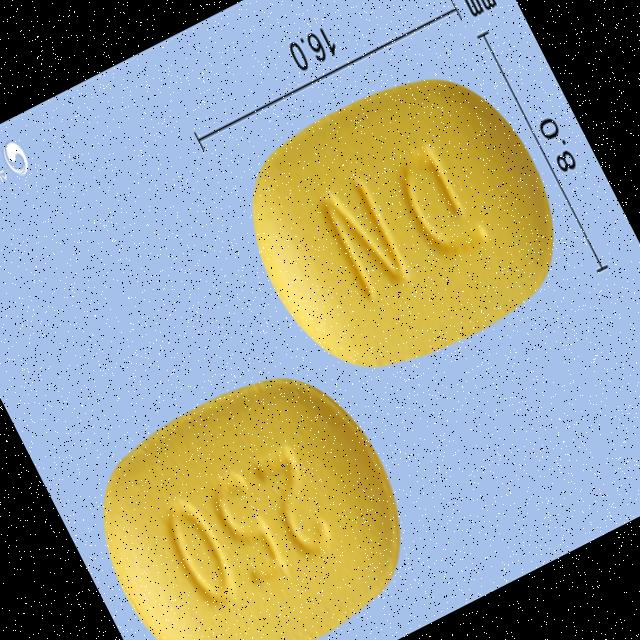Clamycin: (207, 34, 598, 414), (56, 337, 443, 640)
